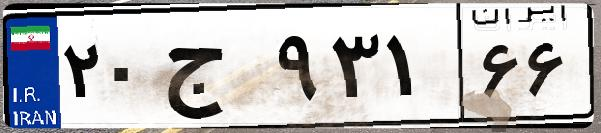0: (110, 28, 158, 98)
1: (385, 28, 445, 110)
2: (57, 26, 110, 100)
3: (330, 28, 385, 110)
6: (475, 38, 525, 113), (525, 38, 570, 115)
9: (270, 28, 330, 110)
ج: (158, 20, 270, 120)
